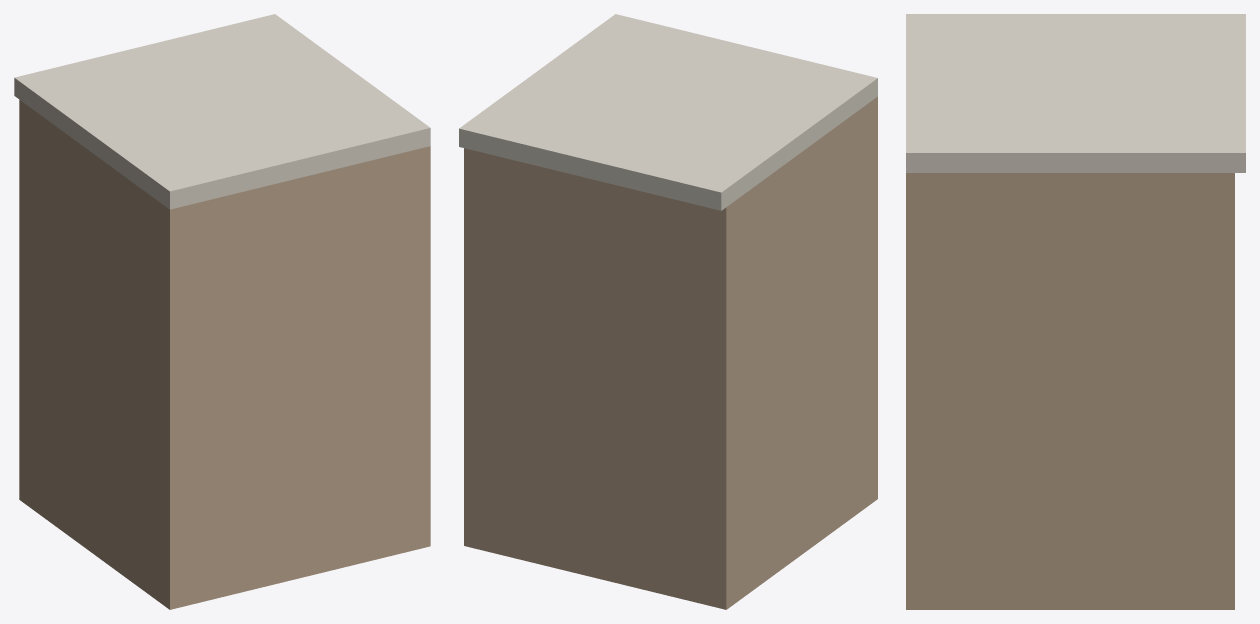
Rendered from kit_base_drawers_060.glb.
The picture shows the model from 3 angles, left to right: view 1: azimuth 30°, elevation 25°; view 2: azimuth 150°, elevation 25°; view 3: azimuth 270°, elevation 25°; orthographic projection. The views are drawn at different scales.
Parts seen in each view (by area): view 1: kit_base_drawers_060; view 2: kit_base_drawers_060; view 3: kit_base_drawers_060.
Part boxes in pixels (<box>): kit_base_drawers_060: <box>14,14,430,609</box>; kit_base_drawers_060: <box>459,14,877,609</box>; kit_base_drawers_060: <box>906,14,1245,609</box>.
Size of what is drawn, in the model's own units: 0.6 by 0.92 by 0.62.
